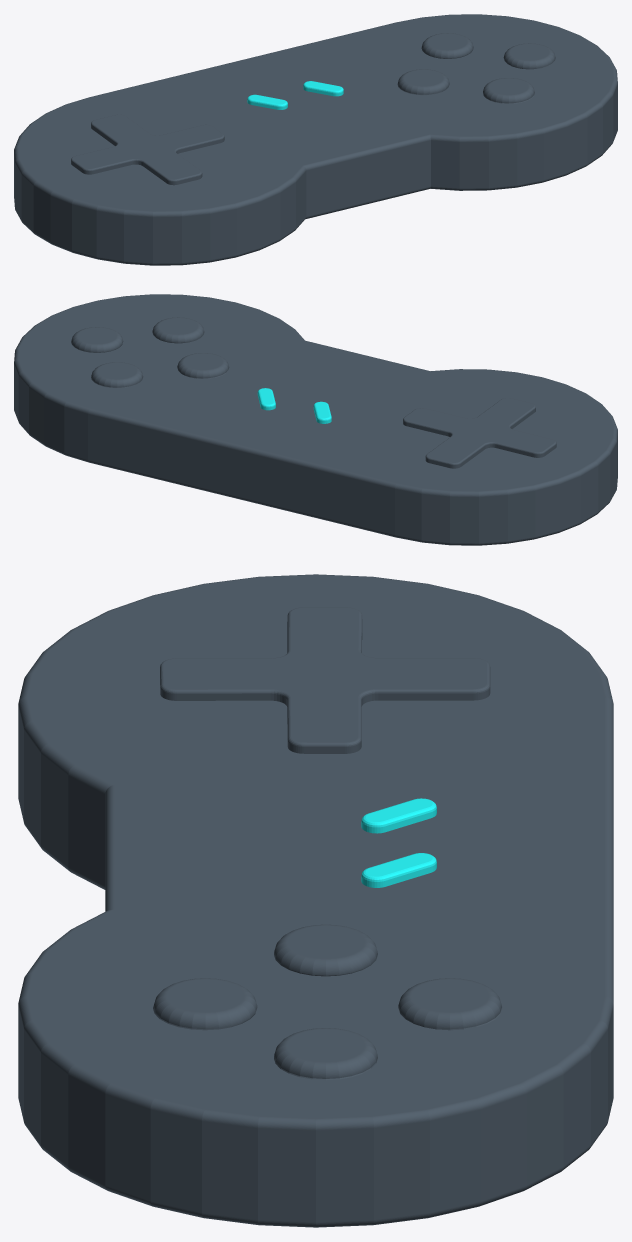
The model's file is controller.glb.
The picture shows the model from 3 angles, top to bottom: view 1: azimuth 30°, elevation 25°; view 2: azimuth 150°, elevation 25°; view 3: azimuth 270°, elevation 25°; orthographic projection. The views are drawn at different scales.
Parts seen in each view (by area): view 1: controller.002; view 2: controller.002; view 3: controller.002.
Boxes of the visible parts, <box> form: controller.002: <box>14,14,617,265</box>; controller.002: <box>14,294,617,545</box>; controller.002: <box>18,574,613,1227</box>.
Bounding box in the file's own units: 4.28 × 0.4354 × 1.95.
